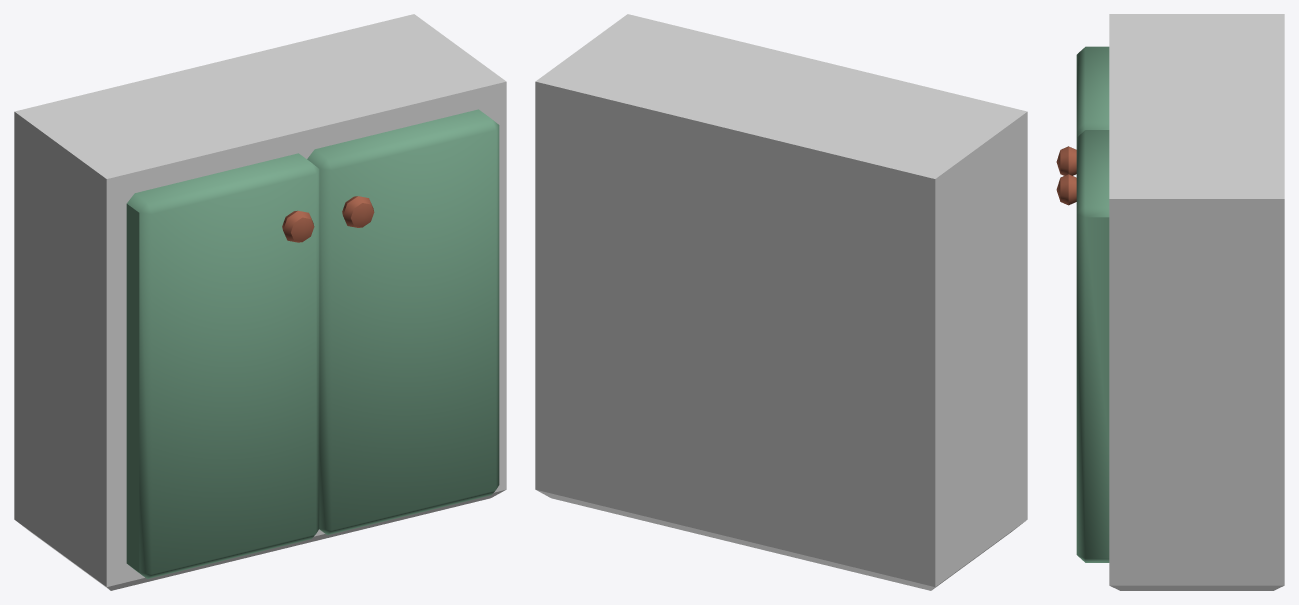
The model's file is kitchenCounter 1.fbx.
3 views of the same model, side by side, from view 1: azimuth 30°, elevation 25°; view 2: azimuth 150°, elevation 25°; view 3: azimuth 270°, elevation 25° (orthographic). The views are drawn at different scales.
Parts seen in each view (by area): view 1: kitchencabinet; view 2: kitchencabinet; view 3: kitchencabinet.
Part boxes in pixels (x1=…): kitchencabinet: x1=14, y1=14, x2=506, y2=590; kitchencabinet: x1=535, y1=14, x2=1027, y2=590; kitchencabinet: x1=1056, y1=14, x2=1284, y2=590.
Bounding box in the file's own units: 200 × 200 × 104.
